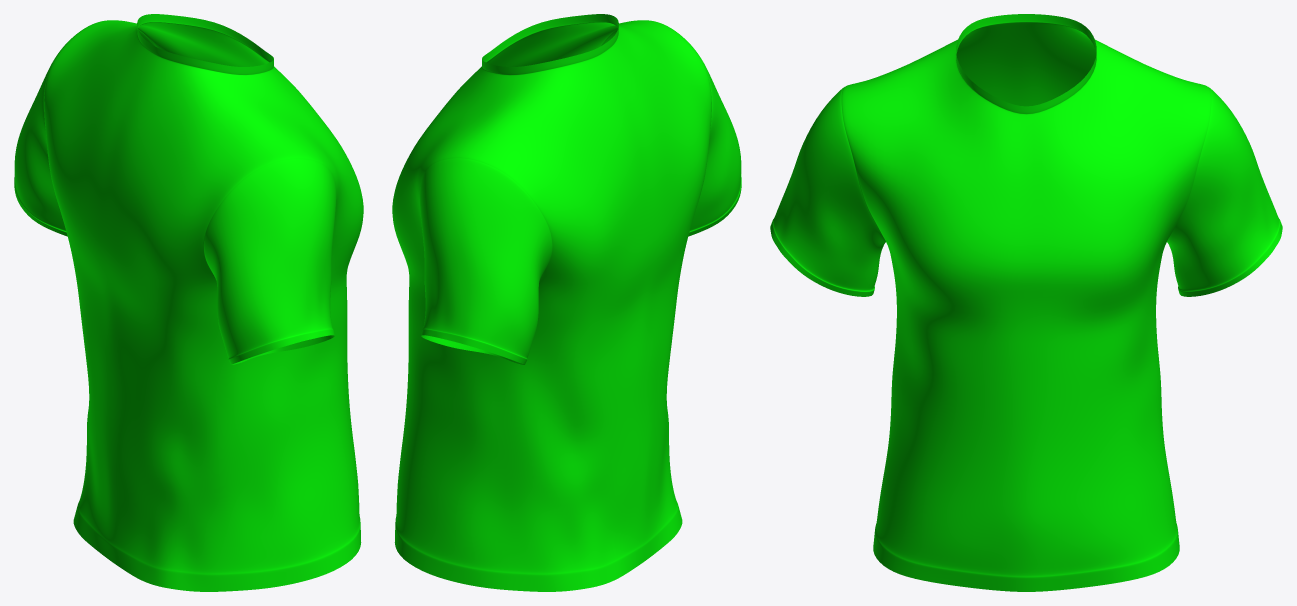
File: tshirt-green.glb
The picture shows the model from 3 angles, left to right: view 1: azimuth 30°, elevation 25°; view 2: azimuth 150°, elevation 25°; view 3: azimuth 270°, elevation 25°; orthographic projection.
Visible parts, largest first — view 1: Plane; view 2: Plane; view 3: Plane.
Boxes of the visible parts, x1,y1,x2,y2 form: Plane: (14,14,363,591); Plane: (392,14,741,591); Plane: (770,14,1282,591).
Bounding box in the file's own units: 0.5247 × 1.09 × 1.01.
